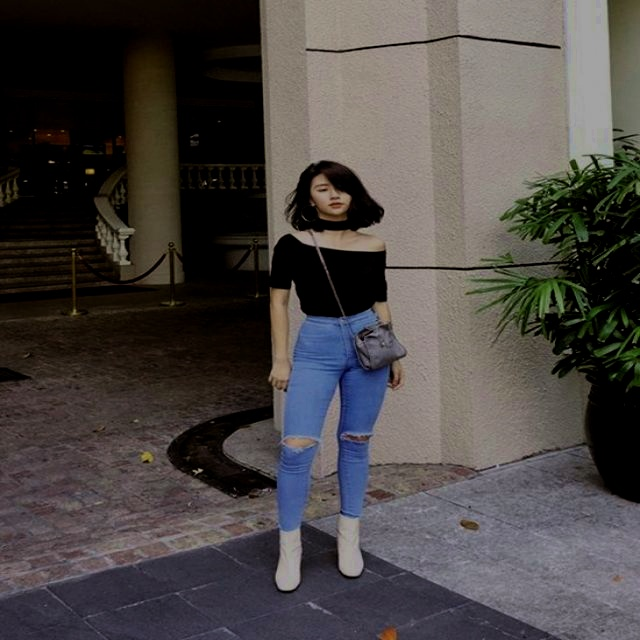Sleeveless: (368, 233, 386, 251)
low_neckline: (294, 231, 374, 318)
ripped_pants: (278, 314, 388, 534)
